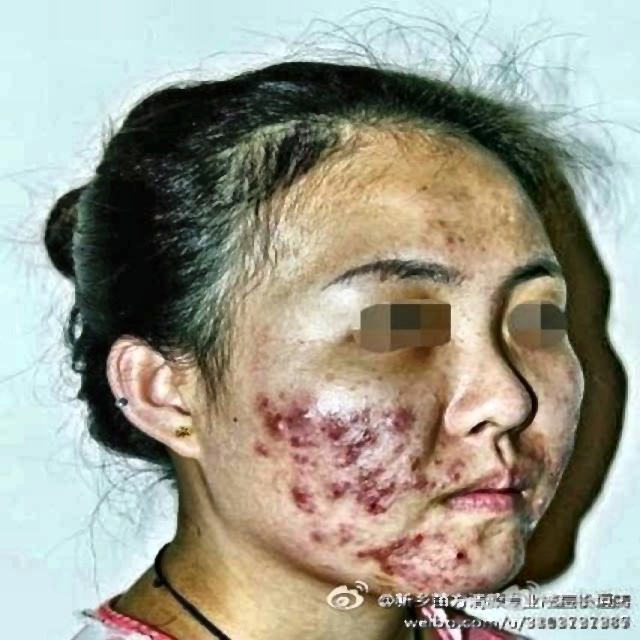papule: (383, 399, 413, 436), (267, 406, 296, 444), (443, 451, 472, 479), (294, 502, 326, 526), (281, 475, 308, 503), (348, 459, 378, 484), (352, 539, 376, 570), (346, 427, 378, 449), (452, 560, 479, 586), (451, 530, 479, 555), (314, 404, 343, 428), (288, 426, 311, 456), (354, 480, 384, 500), (363, 496, 388, 520), (401, 520, 425, 545), (249, 431, 269, 460), (335, 442, 362, 463), (323, 426, 347, 448), (252, 390, 276, 412), (322, 474, 346, 496), (342, 409, 370, 427), (419, 566, 440, 590), (296, 401, 312, 427), (418, 469, 437, 490), (384, 558, 406, 575), (306, 526, 322, 544)
